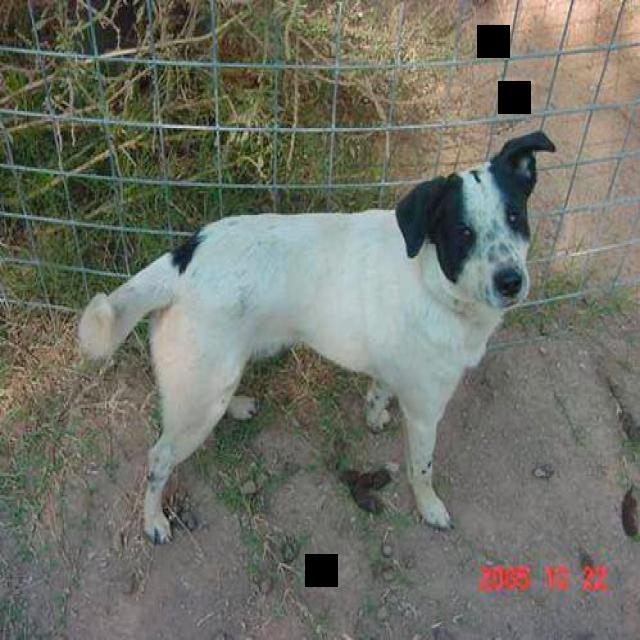adult_dog: (72, 132, 558, 545)
